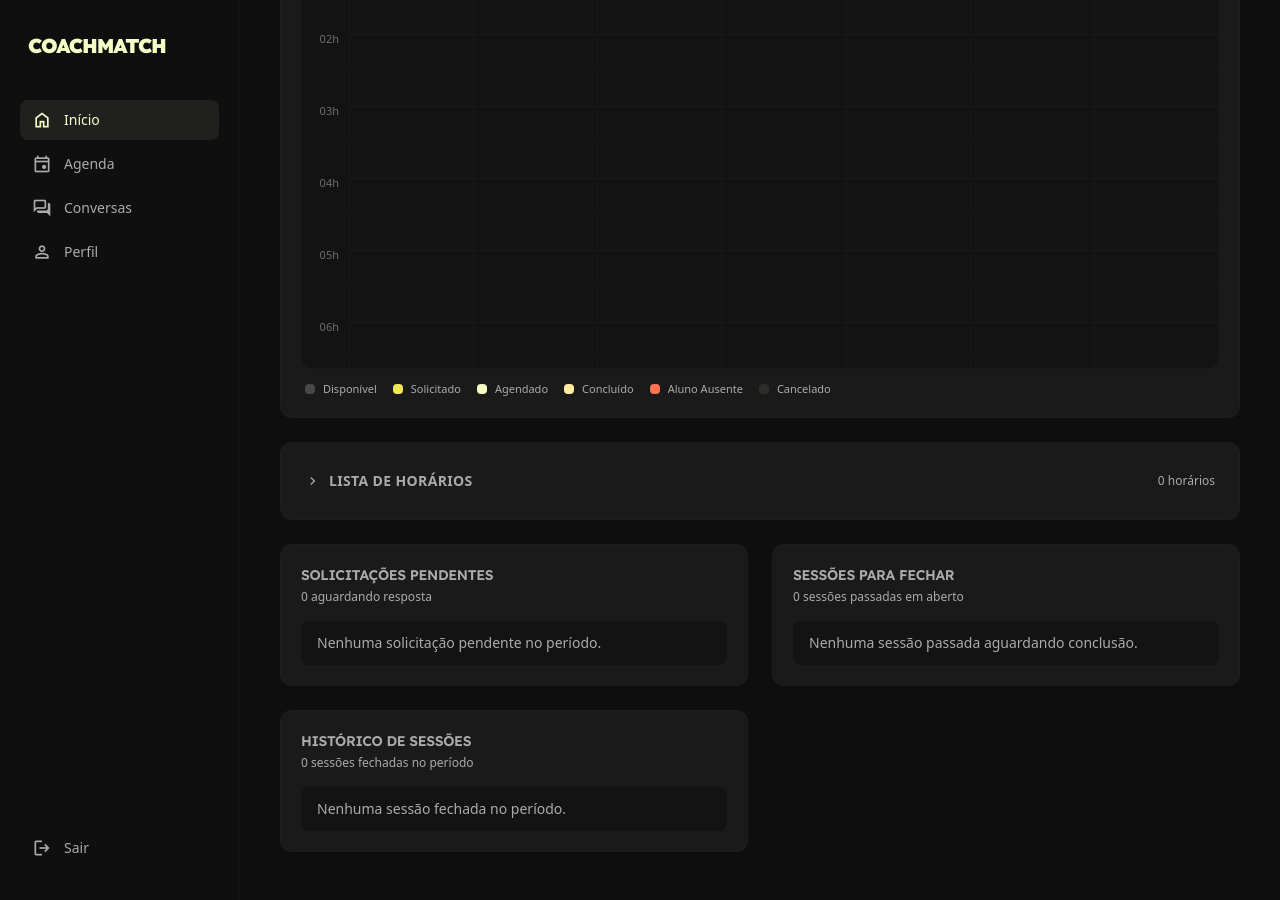
Test case: CoachSchedulePage › lista de horários › não lista horários passados que estão disponíveis
(page scrolled)
Step 1. Click the button "Lista de horários 0 horários" → (401, 480), box [301,463,1219,499]
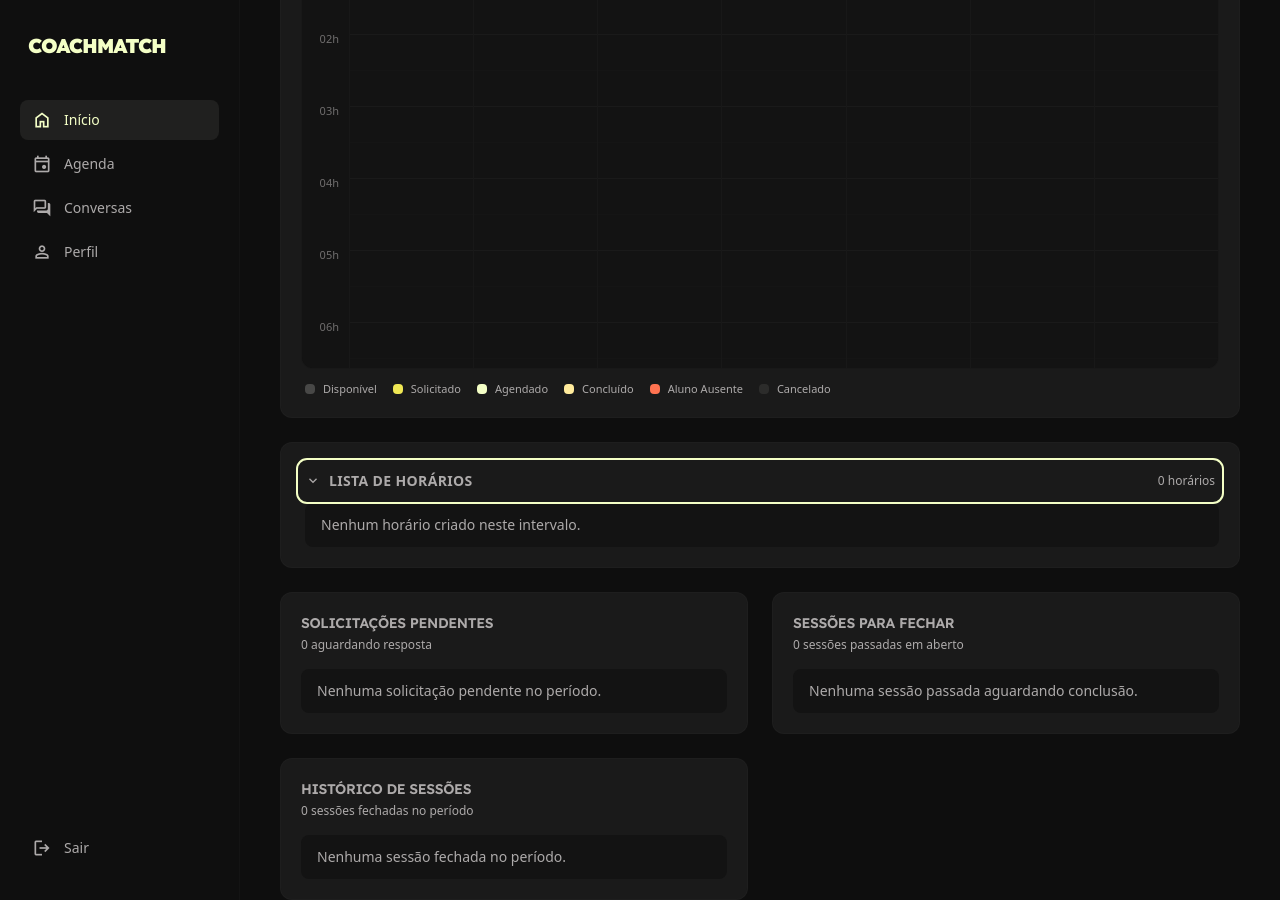
expect the text "Nenhum horário criado neste intervalo." is shown: met, box [305,503,1219,547]
